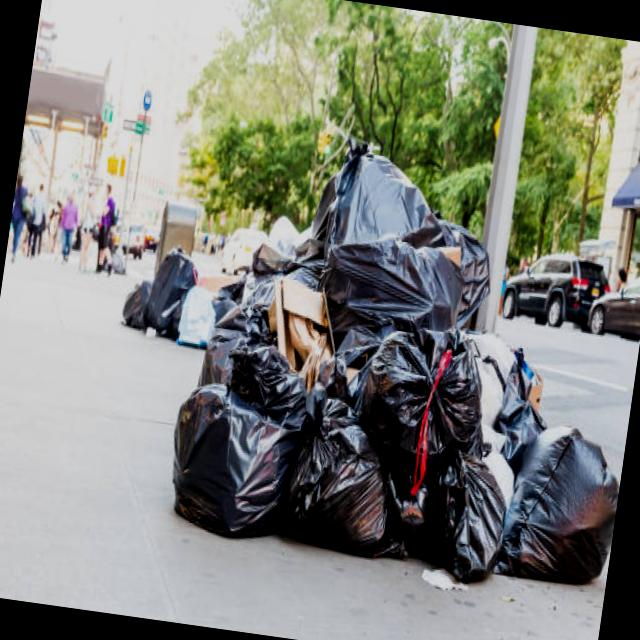garbage: (88, 104, 640, 610)
